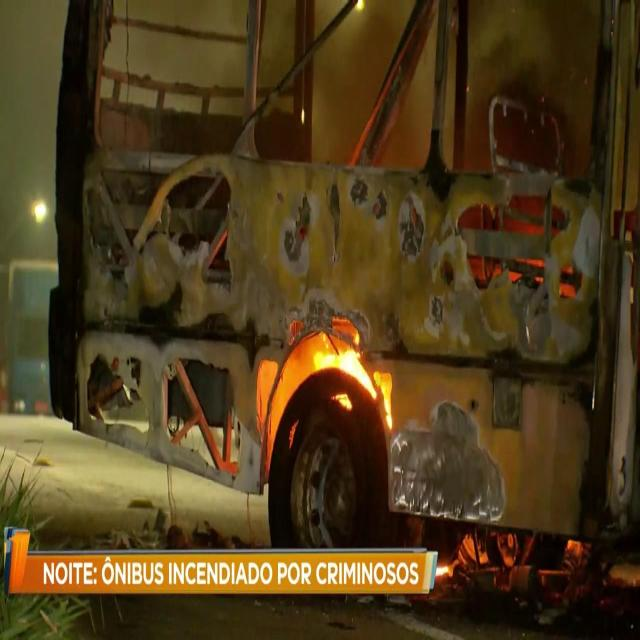Fire: (266, 323, 394, 431)
